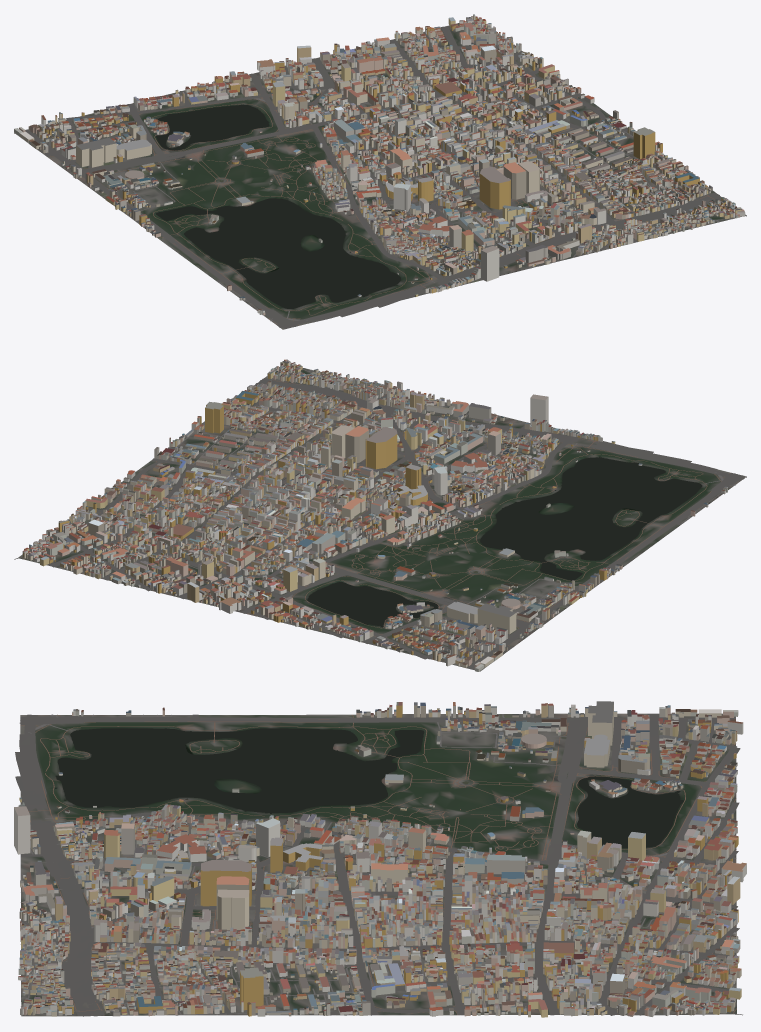
The picture shows the model from 3 angles, top to bottom: view 1: azimuth 30°, elevation 25°; view 2: azimuth 150°, elevation 25°; view 3: azimuth 270°, elevation 25°; orthographic projection. The views are drawn at different scales.
Parts seen in each view (by area): view 1: buildings, ground, roads, water; view 2: buildings, ground, water, roads; view 3: buildings, ground, roads, water.
Part boxes in pixels (x1,y1,x2,y2): buildings: (14,14,745,315); ground: (14,22,746,329); roads: (25,18,732,328); water: (155,104,400,308); buildings: (22,359,727,671); ground: (18,367,746,671); water: (307,456,702,627); roads: (14,369,744,669); buildings: (14,701,746,1017); ground: (20,713,736,1016); roads: (15,713,742,1016); water: (55,728,683,847).
Bounding box in the file's own units: 1418 × 87.57 × 1436.
